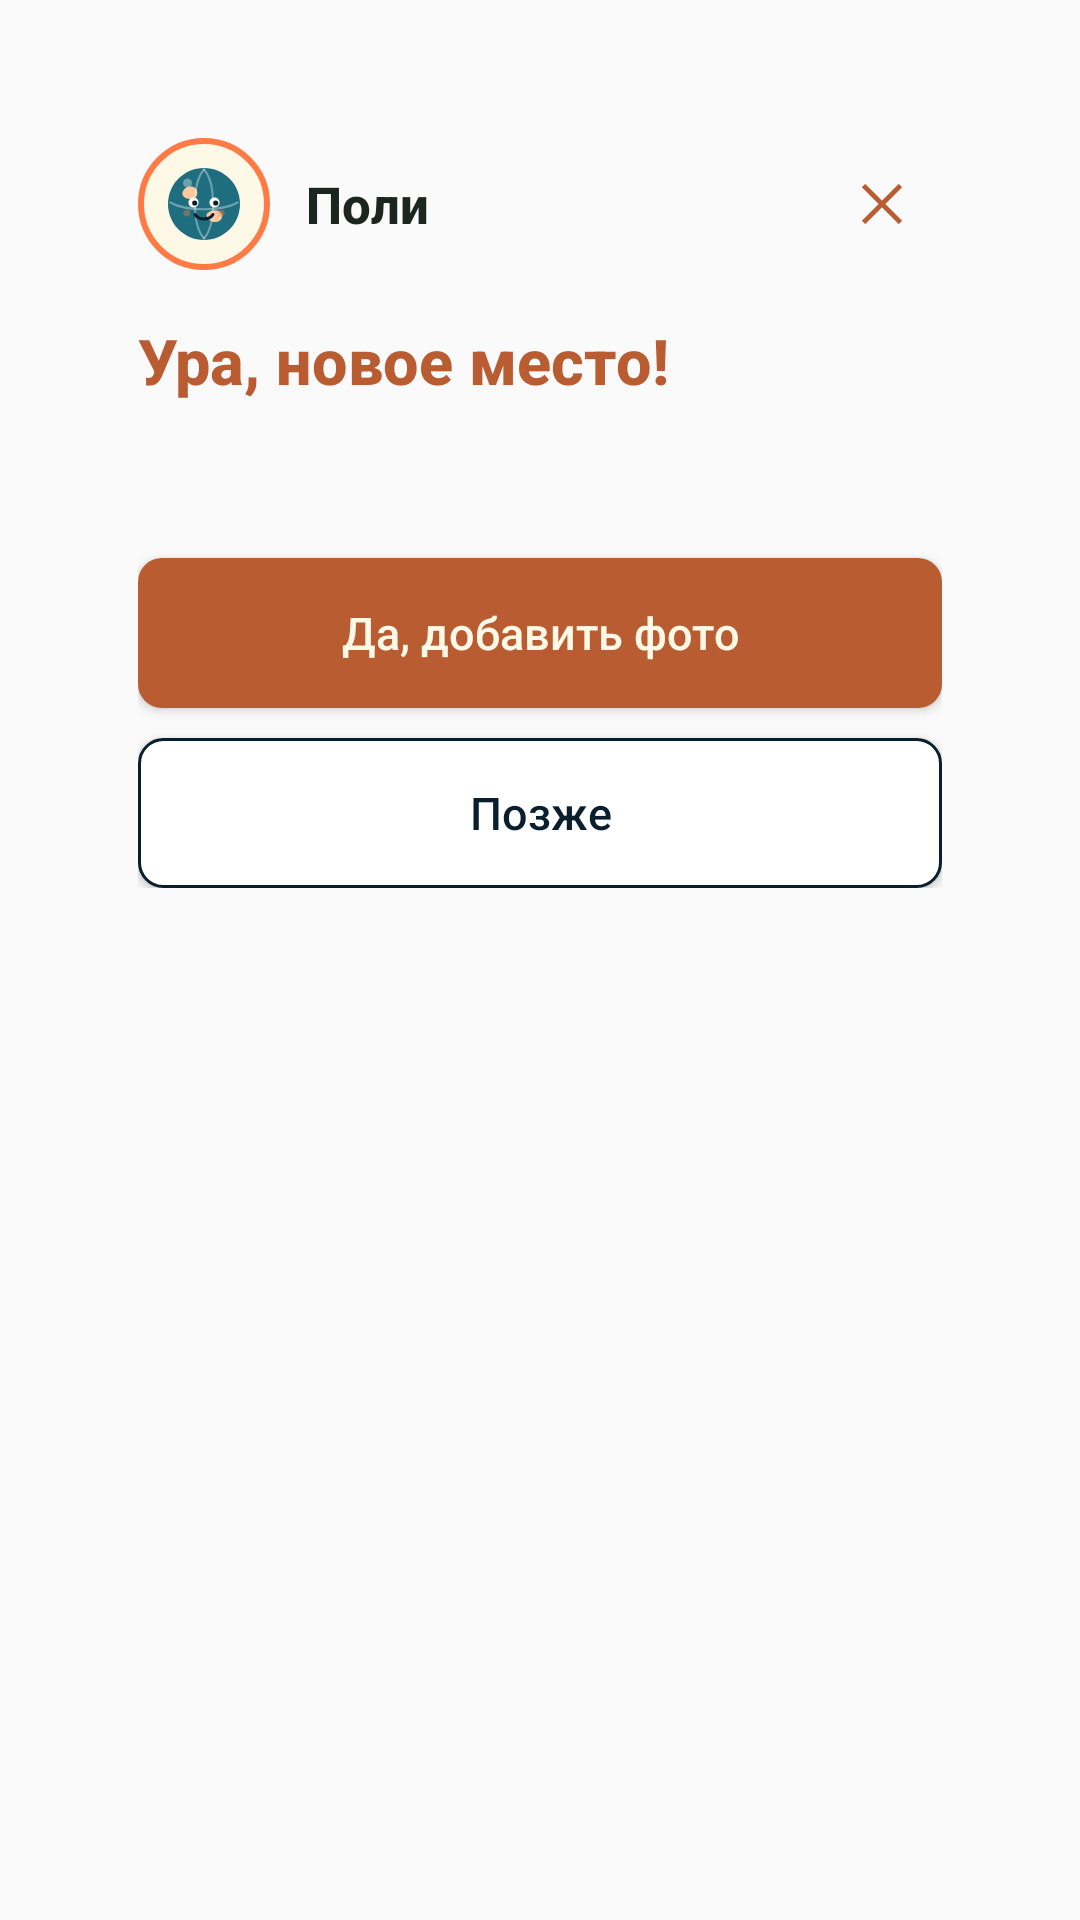

Icons on this 1080 x 1920 Android screen, each with the point to tap as (x=x, y=y):
Закрыть: (x=882, y=204)
